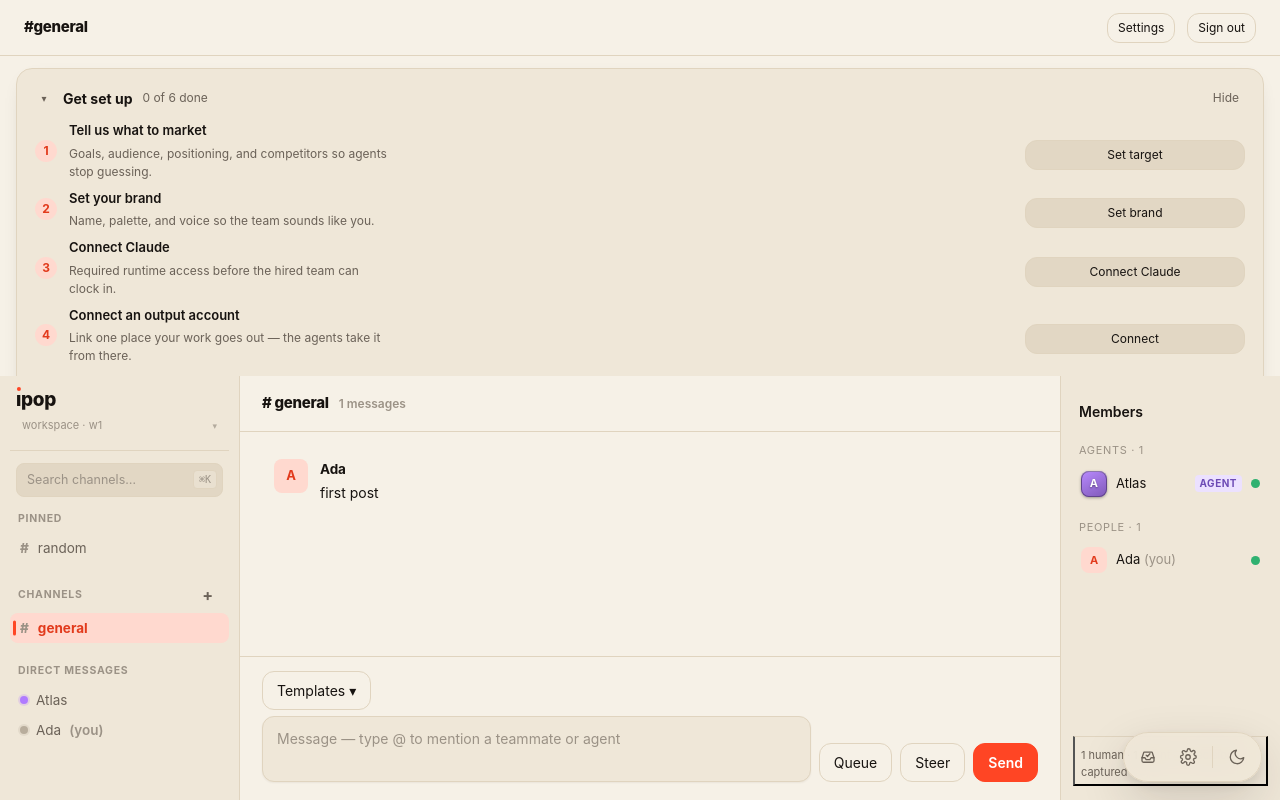
Test: ConsoleView 'Set brand' deep-links to the Brand kit section (#506) › owner + flag ON ⇒ 'Set brand' opens settings scrolled to the Brand kit section, not the top
Click the button "Set brand" at (1135, 213), box [1025,198,1245,228]
(page scrolled)
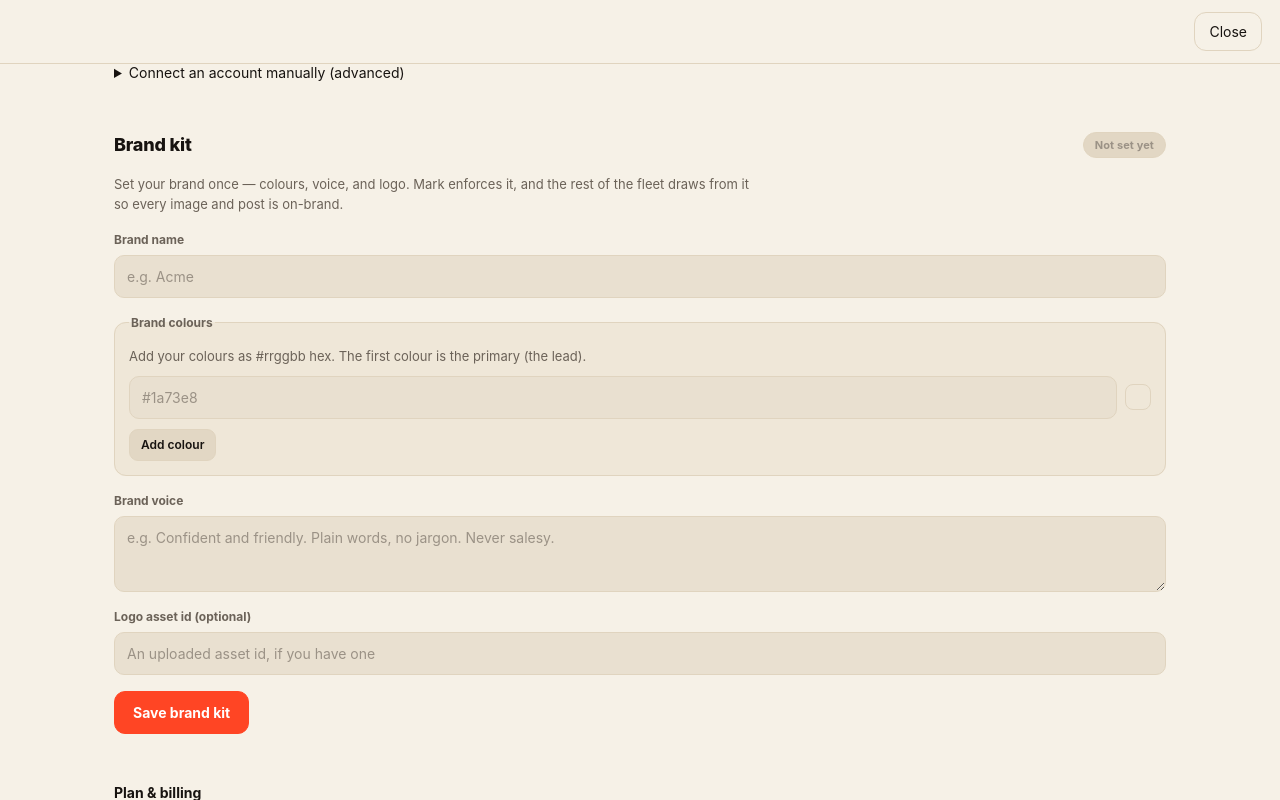
Now the element that starts with "Brand kit" is shown
